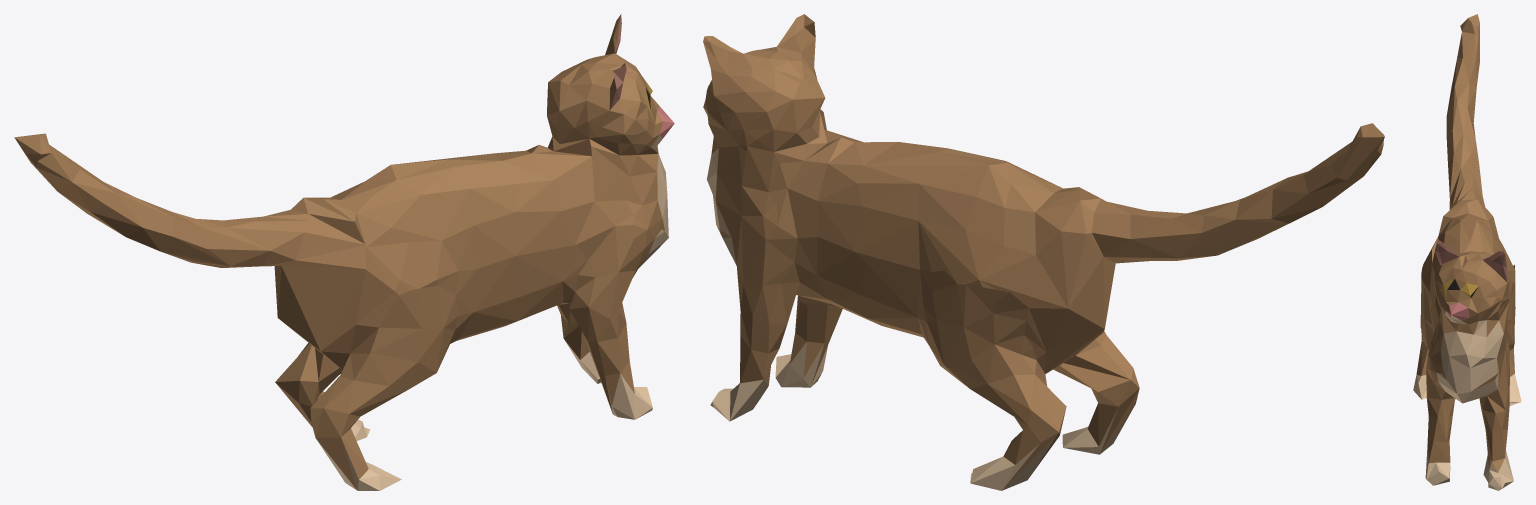
The model's file is cat_1000.glb.
The picture shows the model from 3 angles, left to right: view 1: azimuth 30°, elevation 25°; view 2: azimuth 150°, elevation 25°; view 3: azimuth 270°, elevation 25°; orthographic projection. The views are drawn at different scales.
Visible parts, largest first — view 1: cat_1000; view 2: cat_1000; view 3: cat_1000.
Boxes of the visible parts, left/top/right/bottom form: cat_1000: left=14, top=14, right=674, bottom=490; cat_1000: left=703, top=14, right=1384, bottom=490; cat_1000: left=1413, top=14, right=1521, bottom=490.
Bounding box in the file's own units: 0.6649 × 0.395 × 0.1423.
